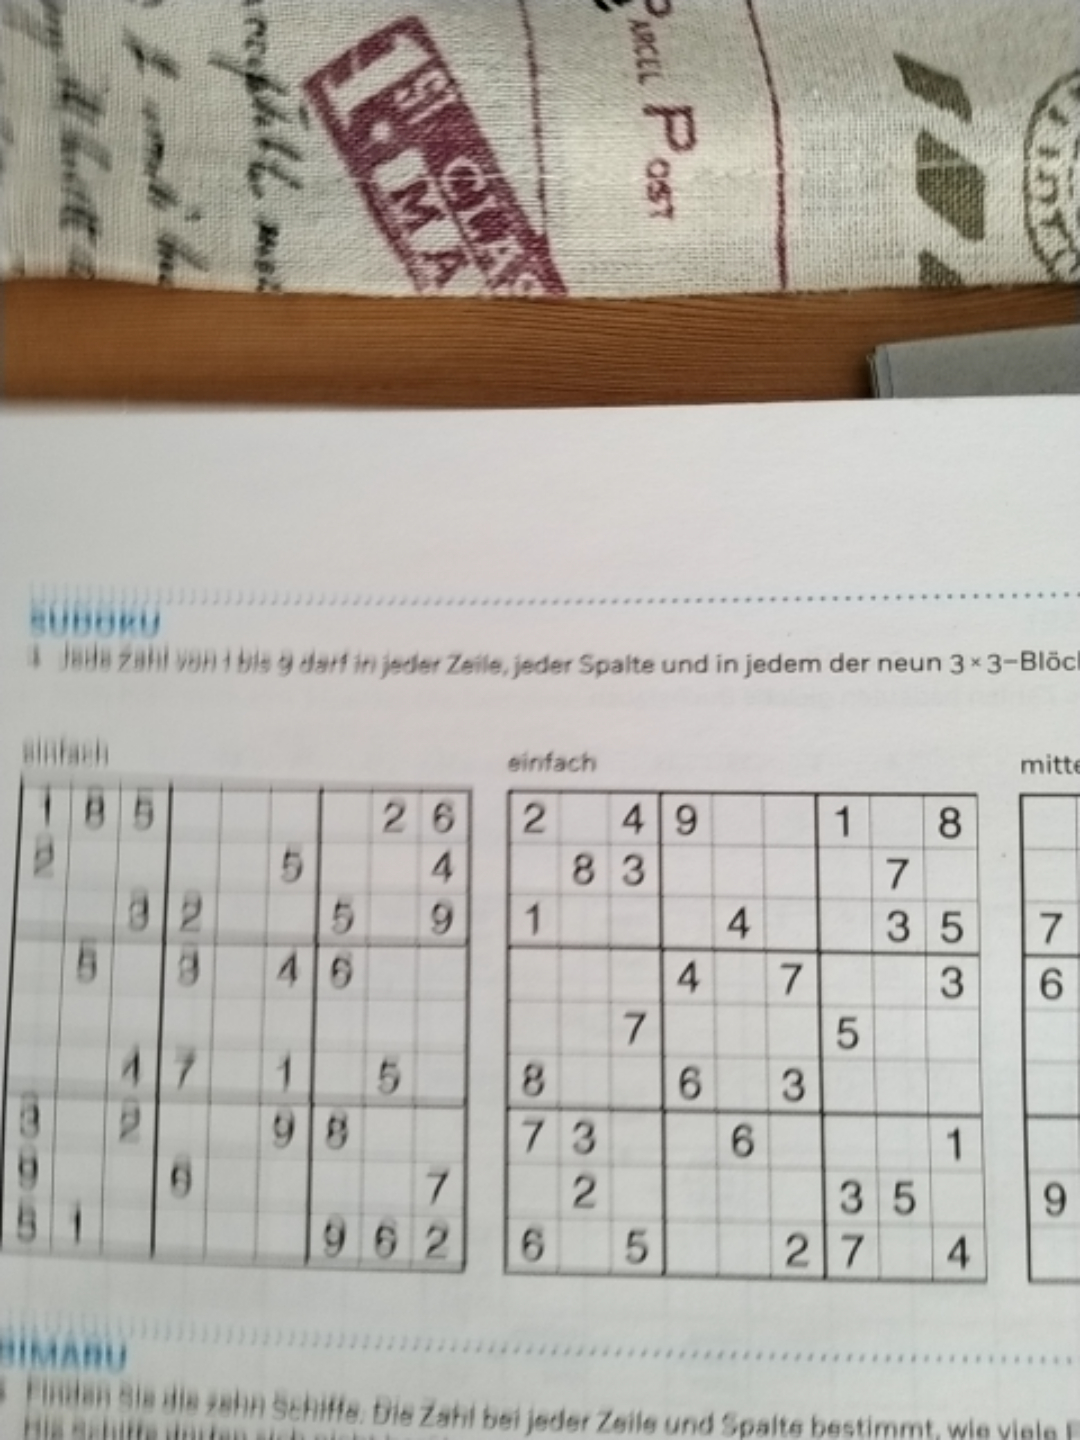sudoku: (501, 785, 987, 1286), (2, 774, 469, 1273)
